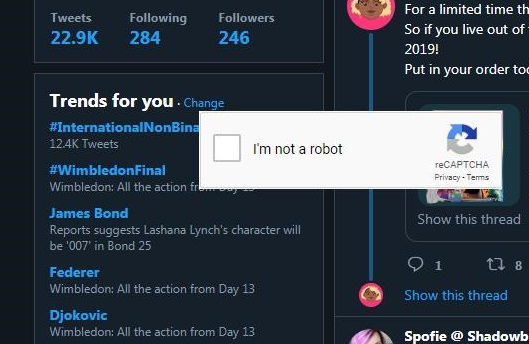captcha: (213, 134, 344, 162)
